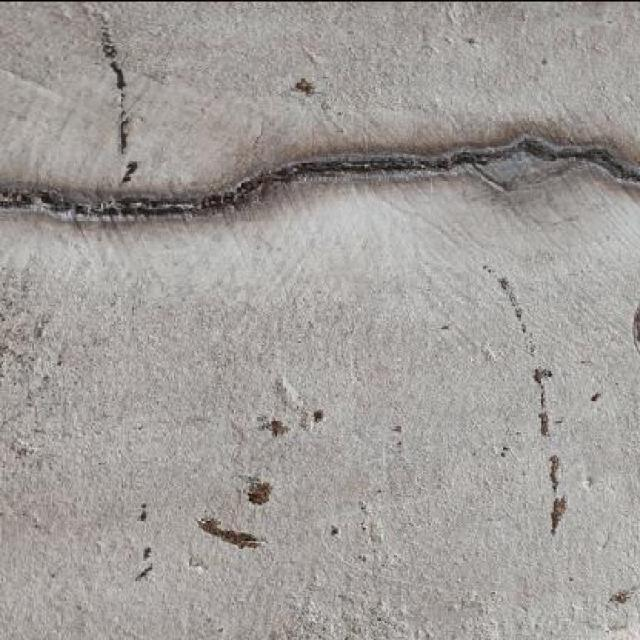GRIETA: (0, 136, 639, 220), (102, 20, 128, 156), (548, 453, 567, 536), (500, 277, 526, 334), (533, 367, 551, 436)
